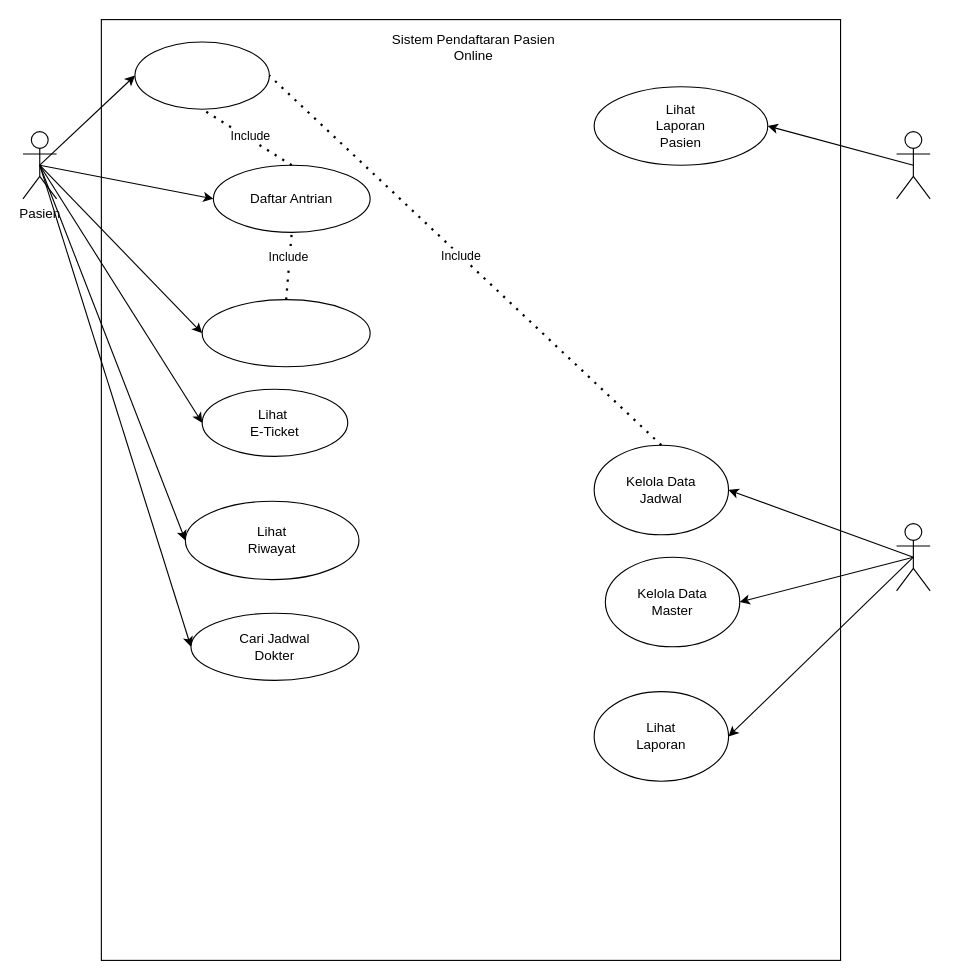
The diagram is 953 pixels wide and 980 high, and some of its shapes have lost their labels. The shapes that lost their labels are listed below. From the top down, each one's centre as x and y in pixels, then its label:
At [201,75]: "Registrasi Dan Login".
At [912,164]: "Dokter".
At [285,332]: "Cek Kuota".
At [912,556]: "Kepala RM".
